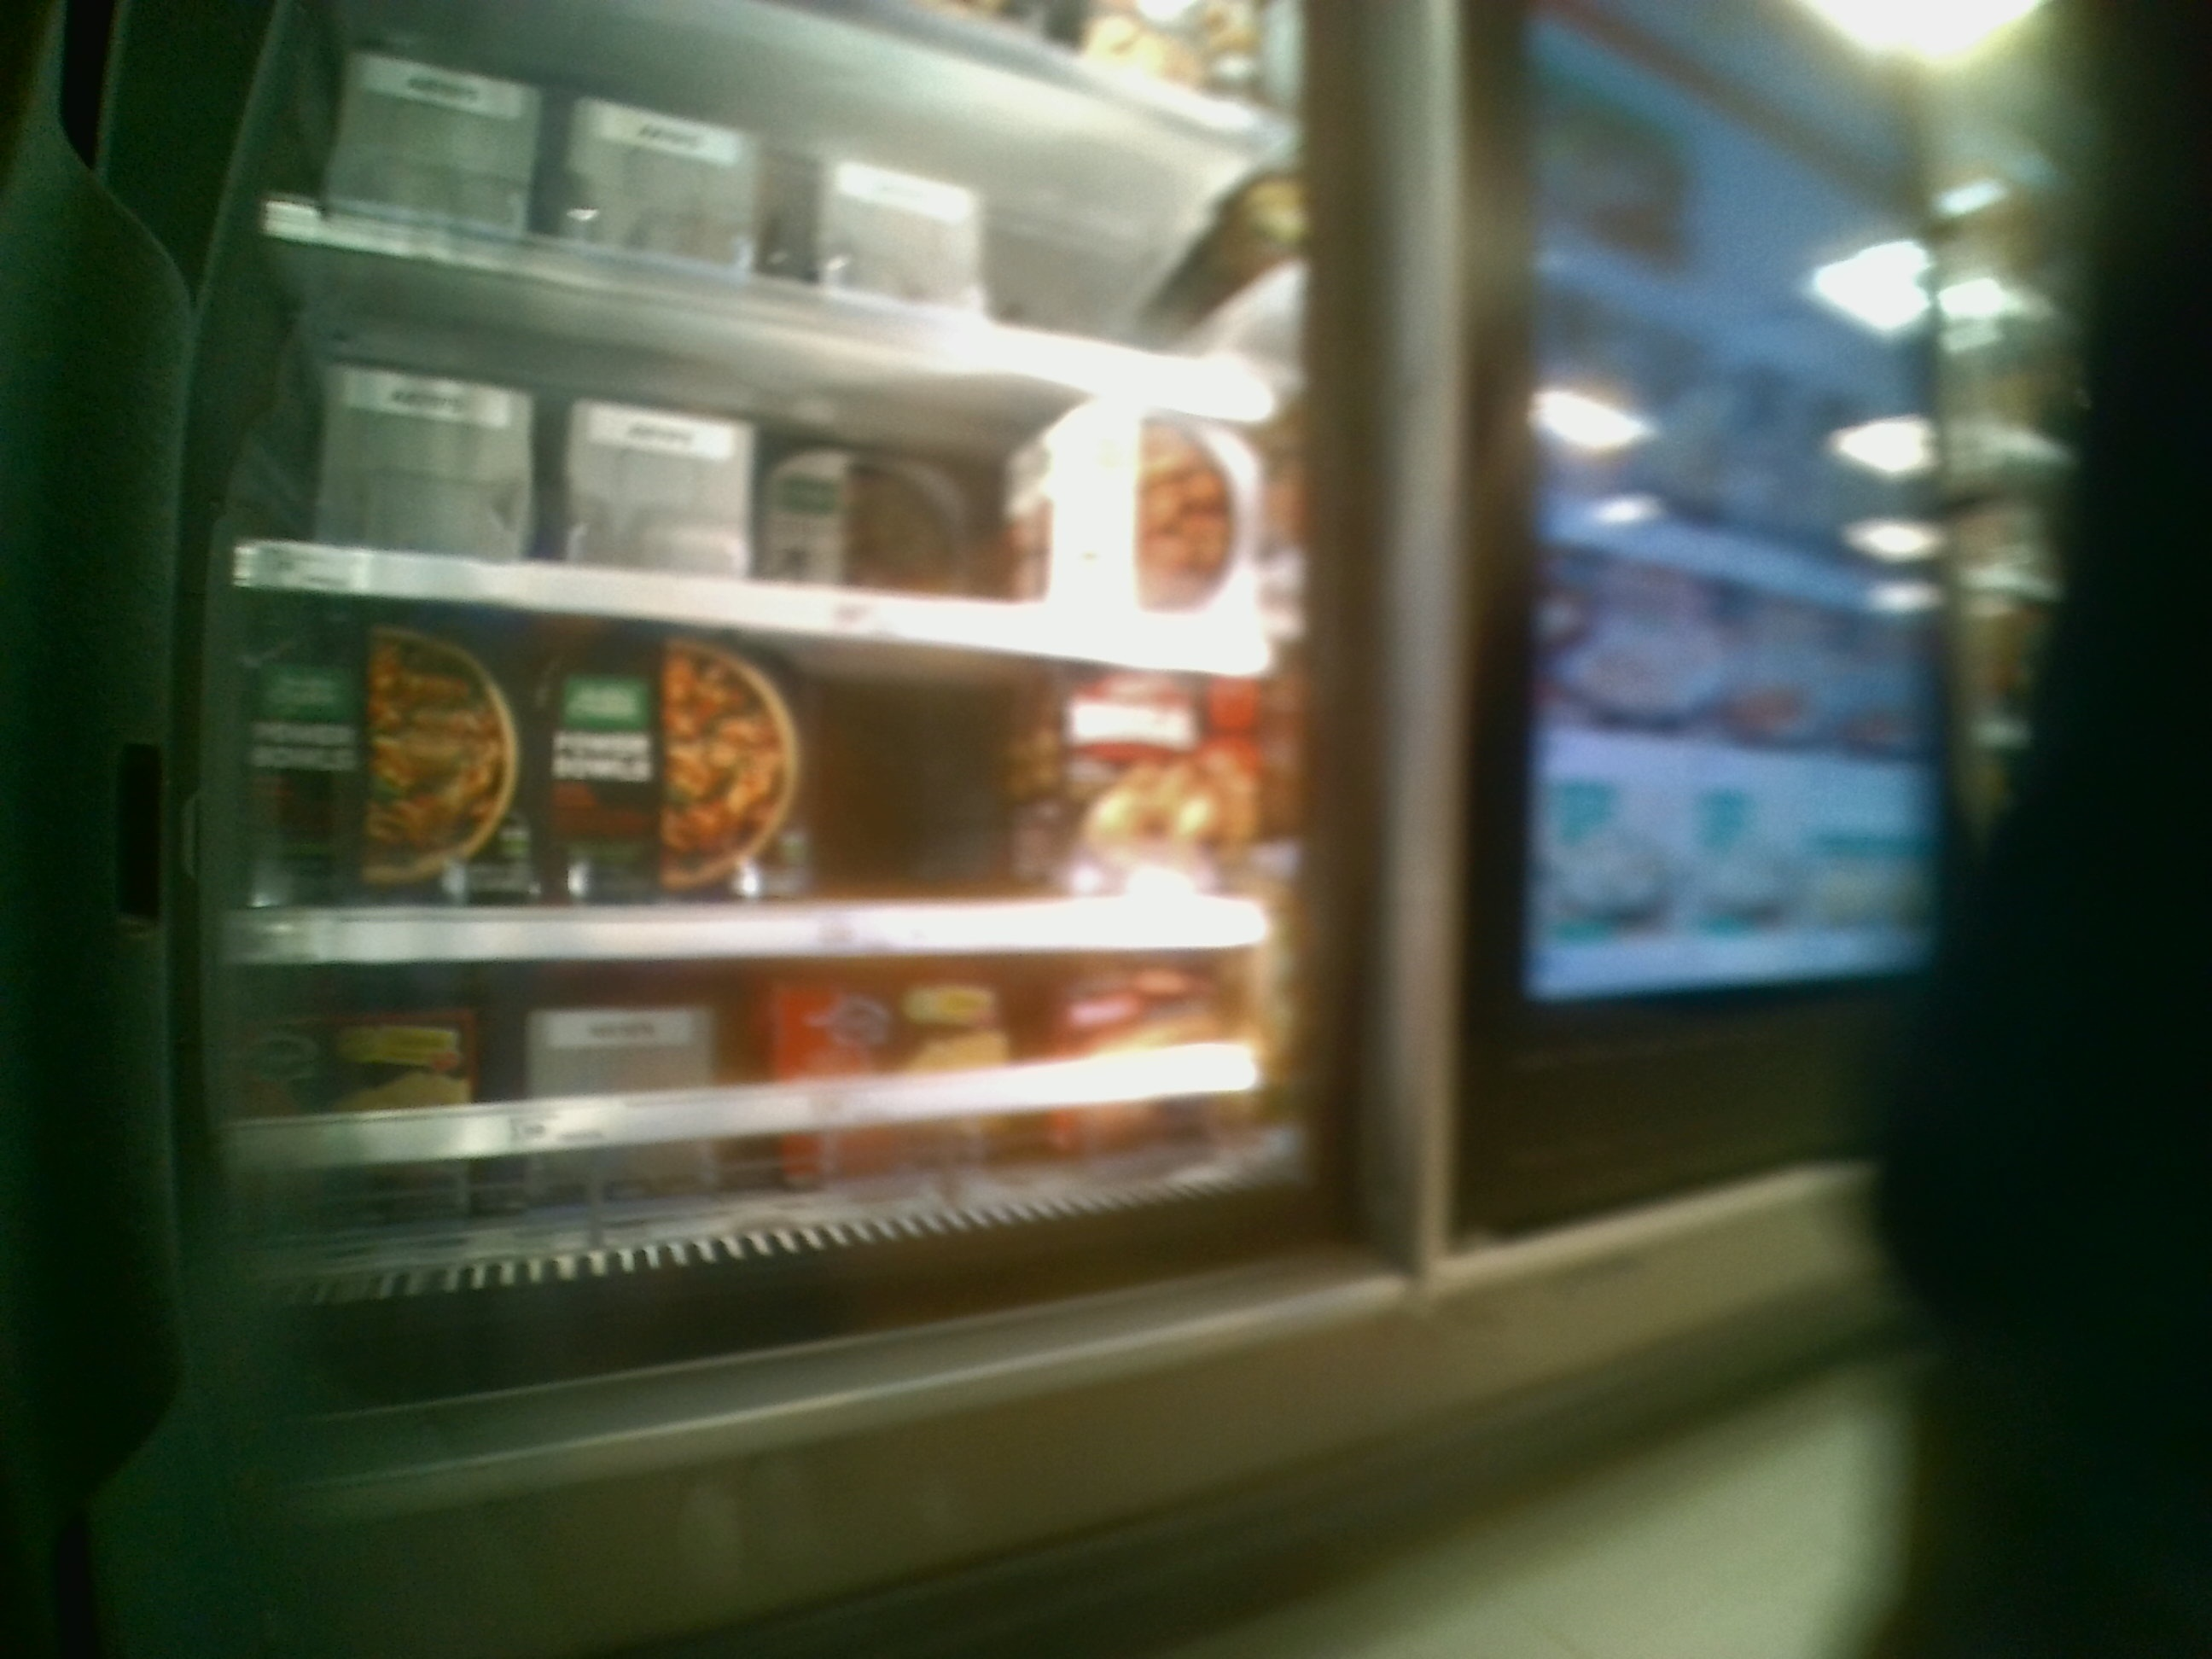shelf: (230, 580, 1285, 955), (228, 964, 1299, 1284)
